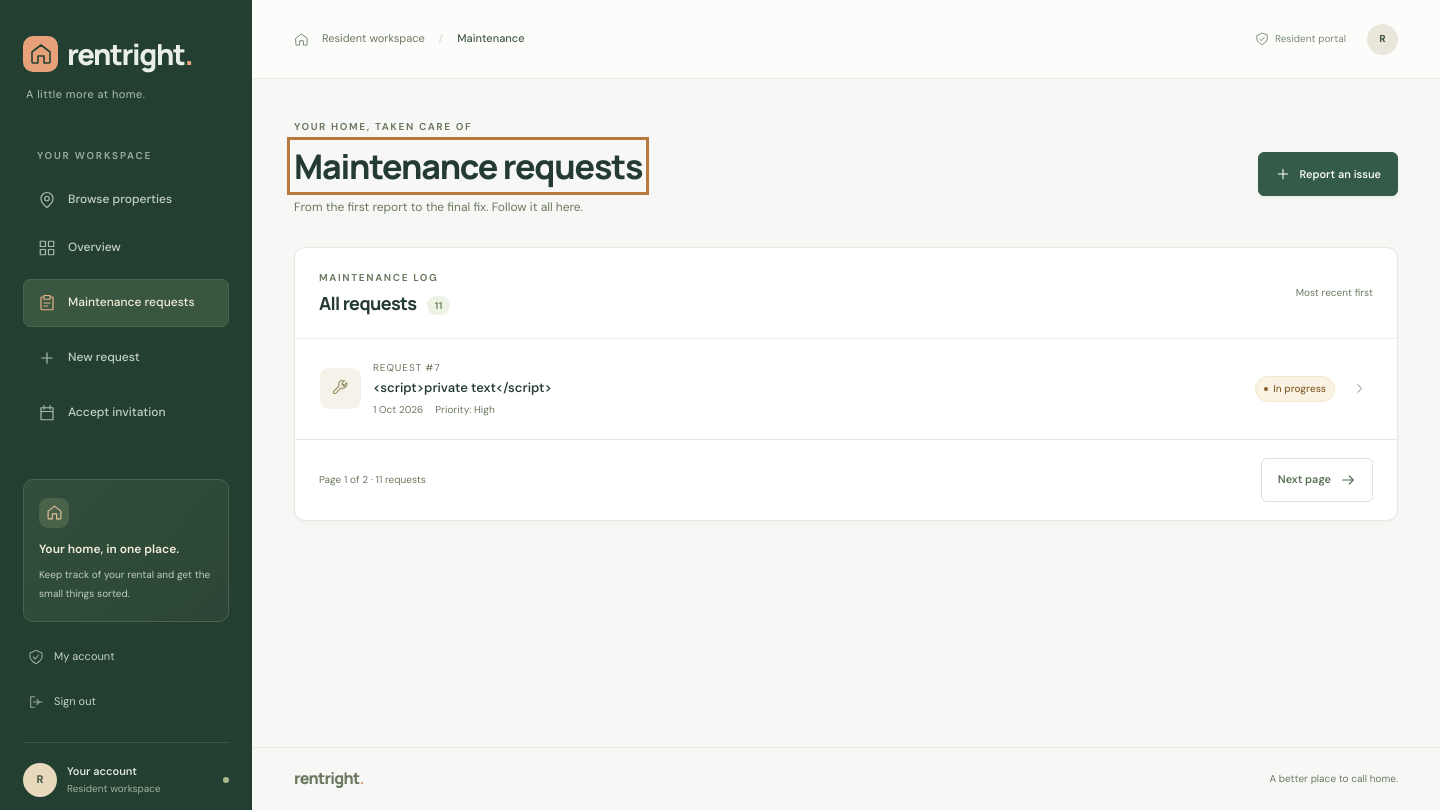
pages using server totals and clears the previous list while loading
Step 1. Click the link "Next page" → click(1317, 480), box x1=1261 y1=458 x2=1373 y2=502
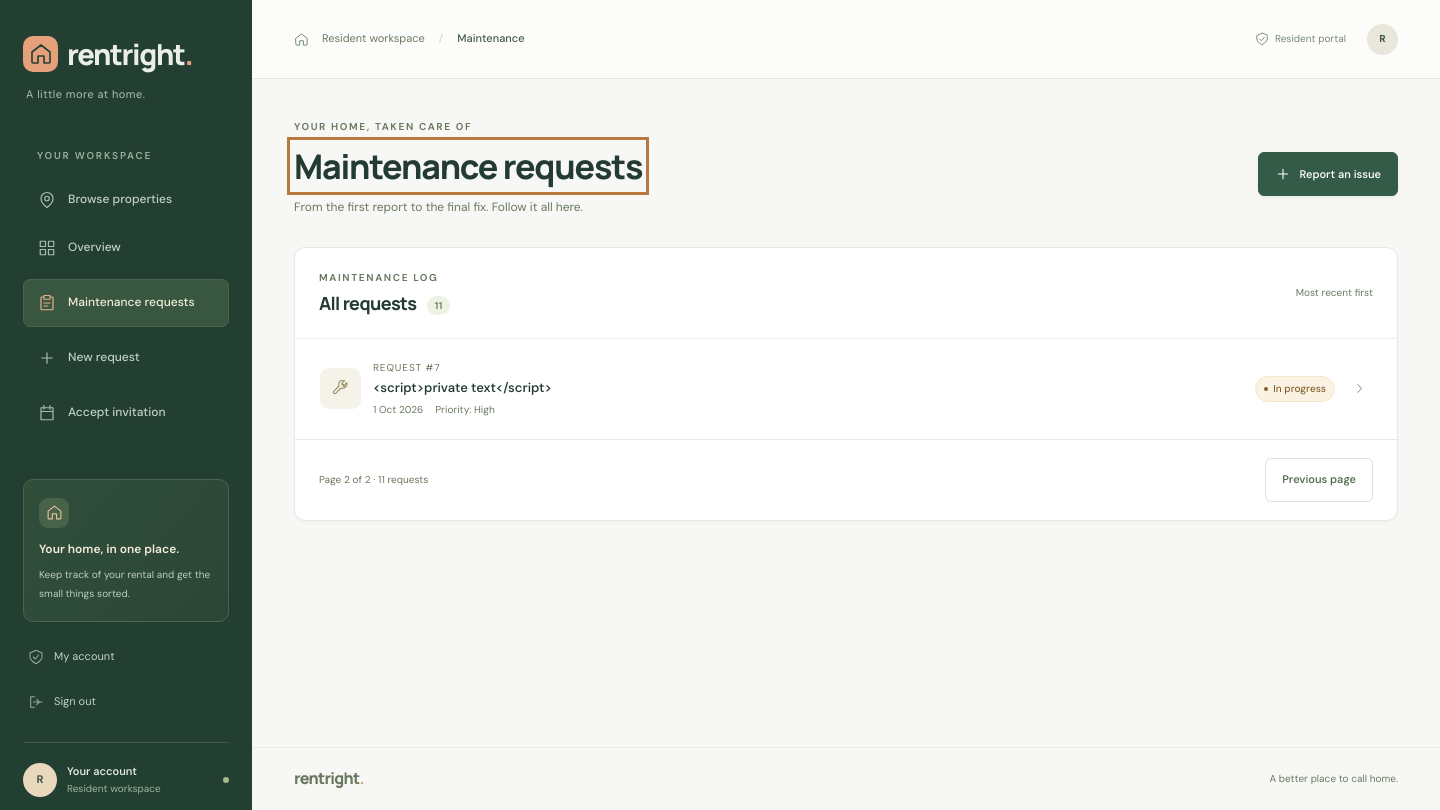
Expected: the text "Priority: High" is shown, x1=435 y1=402 x2=495 y2=418
Result: the text "Page 2 of 2 · 11 requests" is shown at x1=319 y1=472 x2=428 y2=488
Result: the link "Next page" is gone
